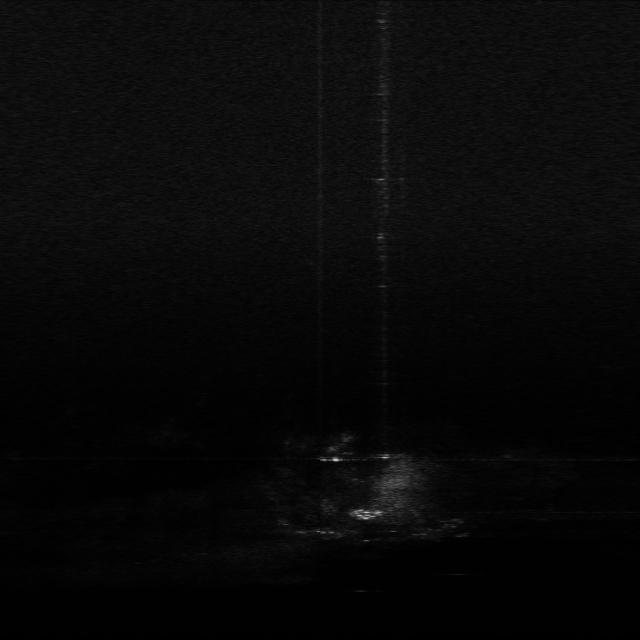rov: (352, 506, 384, 522)
